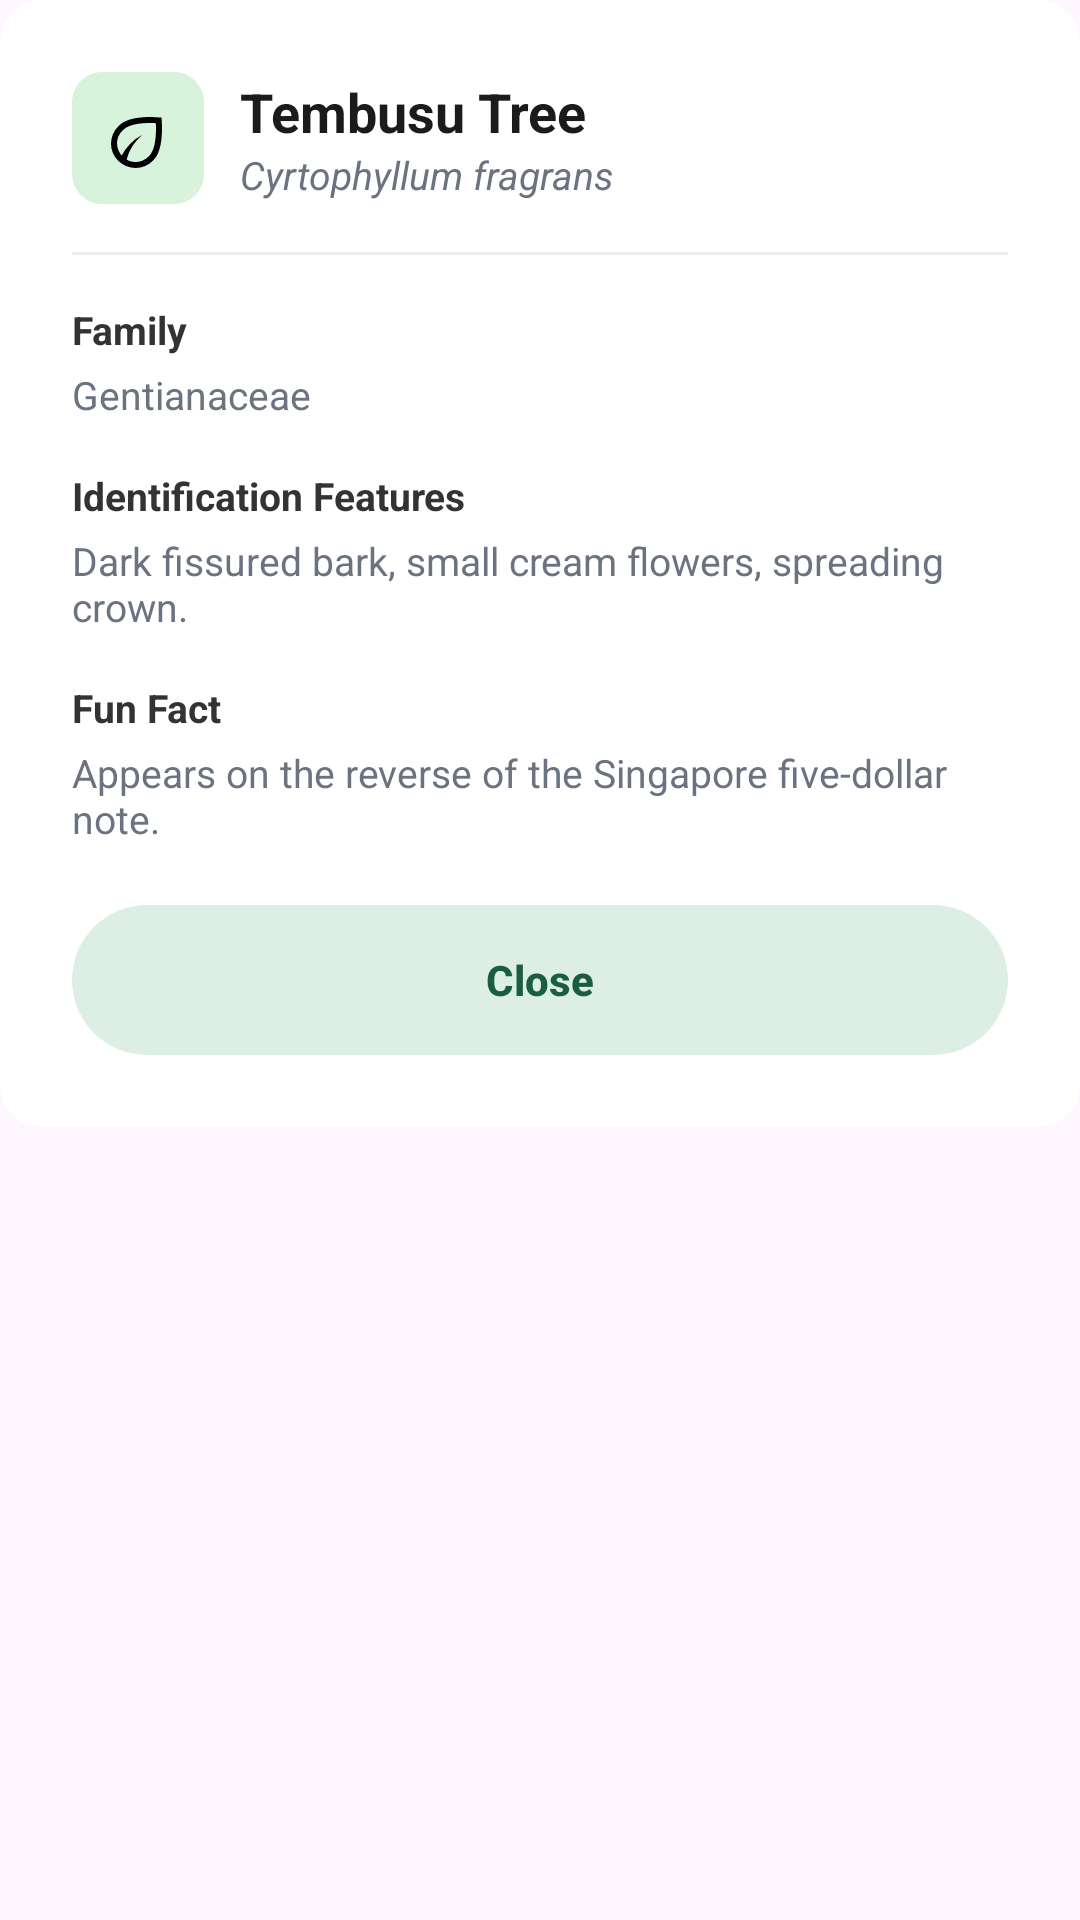

Icon bounding boxes for this 1080 × 1920 phone screenshot, format [x1, y1, x2, y2]:
Flora: [72, 72, 204, 204]
